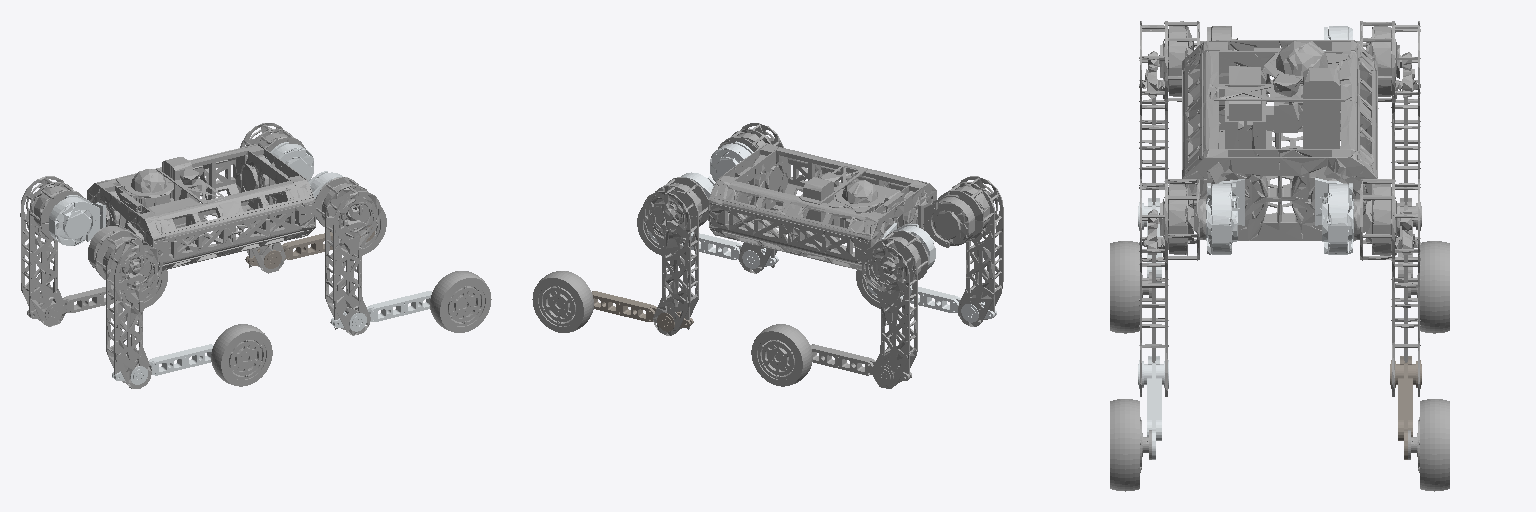
URDF robot description (dog):
<?xml version="1.0" encoding="utf-8"?>
<!-- This URDF was automatically created by SolidWorks to URDF Exporter! Originally created by Stephen Brawner (brawner@gmail.com) 
     Commit Version: 1.6.0-4-g7f85cfe  Build Version: 1.6.7995.38578
     For more information, please see http://wiki.ros.org/sw_urdf_exporter -->
<robot
  name="dog">
  <link
    name="base_link">
    <inertial>
      <origin
        xyz="-0.0160854613189334 0.00474330207191995 0.0648795496388768"
        rpy="0 0 0" />
      <mass
        value="5.21190024516352" />
      <inertia
        ixx="0.00800659043383066"
        ixy="-7.72462268642862E-07"
        ixz="2.58952656180226E-06"
        iyy="0.010335350434977"
        iyz="-5.60612776065699E-08"
        izz="0.0100871236101178" />
    </inertial>
    <visual>
      <origin
        xyz="0 0 0"
        rpy="0 0 0" />
      <geometry>
        <mesh
          filename="package://dog/meshes/base_link.stl" />
      </geometry>
      <material
        name="">
        <color
          rgba="0.698039215686274 0.698039215686274 0.698039215686274 1" />
      </material>
    </visual>
    <collision>
      <origin
        xyz="0 0 0"
        rpy="0 0 0" />
      <geometry>
        <mesh
          filename="package://dog/meshes/base_link.stl" />
      </geometry>
    </collision>
  </link>
  <link
    name="FL_hip">
    <inertial>
      <origin
        xyz="0.00926961232108042 -0.000389119045094199 0.0462296027107006"
        rpy="0 0 0" />
      <mass
        value="0.742829095910112" />
      <inertia
        ixx="0.00077387887909341"
        ixy="-8.17686305921354E-08"
        ixz="-9.36979153627493E-08"
        iyy="0.000386655335773604"
        iyz="-7.10269912308606E-06"
        izz="0.000448506001796733" />
    </inertial>
    <visual>
      <origin
        xyz="0 0 0"
        rpy="0 0 0" />
      <geometry>
        <mesh
          filename="package://dog/meshes/left_front1.stl" />
      </geometry>
      <material
        name="">
        <color
          rgba="0.898039215686275 0.917647058823529 0.929411764705882 1" />
      </material>
    </visual>
    <collision>
      <origin
        xyz="0 0 0"
        rpy="0 0 0" />
      <geometry>
        <mesh
          filename="package://dog/meshes/left_front1.stl" />
      </geometry>
    </collision>
  </link>
  <joint
    name="FL_hip_joint"
    type="revolute">
    <origin
      xyz="0.198599827436973 0.0699998874434311 0.0620002761469703"
      rpy="1.5707963267949 0 1.5707963267949" />
    <parent
      link="base_link" />
    <child
      link="FL_hip" />
    <axis
      xyz="0 0 1" />
    <limit
      lower="-3.1415926"
      upper="3.1415926"
      effort="23"
      velocity="30" />
  </joint>
  <link
    name="FL_thigh">
    <inertial>
      <origin
        xyz="0.0269483380494597 0.00456852861881914 0.0409809021189114"
        rpy="0 0 0" />
      <mass
        value="1.18835534771936" />
      <inertia
        ixx="0.000583045773886506"
        ixy="7.12860506981364E-05"
        ixz="3.29557666862337E-07"
        iyy="0.00200766608657333"
        iyz="3.81735182620513E-07"
        izz="0.00251526896569887" />
    </inertial>
    <visual>
      <origin
        xyz="0 0 0"
        rpy="0 0 0" />
      <geometry>
        <mesh
          filename="package://dog/meshes/left_front2.stl" />
      </geometry>
      <material
        name="">
        <color
          rgba="0.698039215686274 0.698039215686274 0.698039215686274 1" />
      </material>
    </visual>
    <collision>
      <origin
        xyz="0 0 0"
        rpy="0 0 0" />
      <geometry>
        <mesh
          filename="package://dog/meshes/left_front2.stl" />
      </geometry>
    </collision>
  </link>
  <joint
    name="FL_thigh_joint"
    type="revolute">
    <origin
      xyz="0.0358 0 0.053"
      rpy="-1.5708 0 -1.5708" />
    <parent
      link="FL_hip" />
    <child
      link="FL_thigh" />
    <axis
      xyz="0 0 1" />
    <limit
      lower="-3.1415926"
      upper="3.1415926"
      effort="23"
      velocity="30" />
  </joint>
  <link
    name="FL_calf">
    <inertial>
      <origin
        xyz="0.0501224619097587 -3.78986571292206E-10 -0.0161327781293289"
        rpy="0 0 0" />
      <mass
        value="0.239198906199937" />
      <inertia
        ixx="2.34277225944229E-05"
        ixy="-3.71169837486834E-18"
        ixz="8.1760295512886E-09"
        iyy="0.000501272731167536"
        iyz="-4.30463591561226E-19"
        izz="0.000522923662478962" />
    </inertial>
    <visual>
      <origin
        xyz="0 0 0"
        rpy="0 0 0" />
      <geometry>
        <mesh
          filename="package://dog/meshes/left_front3.stl" />
      </geometry>
      <material
        name="">
        <color
          rgba="0.647058823529412 0.619607843137255 0.588235294117647 1" />
      </material>
    </visual>
    <collision>
      <origin
        xyz="0 0 0"
        rpy="0 0 0" />
      <geometry>
        <mesh
          filename="package://dog/meshes/left_front3.stl" />
      </geometry>
    </collision>
  </link>
  <joint
    name="FL_calf_joint"
    type="revolute">
    <origin
      xyz="0.23 0 0.07975"
      rpy="0 0 -1.5704" />
    <parent
      link="FL_thigh" />
    <child
      link="FL_calf" />
    <axis
      xyz="0 0 1" />
    <limit
      lower="-3.1415926"
      upper="3.1415926"
      effort="40"
      velocity="20" />
  </joint>
  <link
    name="FL_foot">
    <inertial>
      <origin
        xyz="1.91410822103499E-06 1.10265890485017E-06 0.0324457169267489"
        rpy="0 0 0" />
      <mass
        value="0.759852059316646" />
      <inertia
        ixx="0.000798795435435591"
        ixy="3.93130204930613E-10"
        ixz="-3.48956735597571E-08"
        iyy="0.000798795890854481"
        iyz="-2.01759884173251E-08"
        izz="0.00145510261223115" />
    </inertial>
    <visual>
      <origin
        xyz="0 0 0"
        rpy="0 0 0" />
      <geometry>
        <mesh
          filename="package://dog/meshes/left_front4.stl" />
      </geometry>
      <material
        name="">
        <color
          rgba="0.698039215686274 0.698039215686274 0.698039215686274 1" />
      </material>
    </visual>
    <collision>
      <origin
        xyz="0 0 0"
        rpy="0 0 0" />
      <geometry>
        <mesh
          filename="package://dog/meshes/left_front4.stl" />
      </geometry>
    </collision>
  </link>
  <joint
    name="FL_foot_joint"
    type="continuous">
    <origin
      xyz="0.225 0 -0.01125"
      rpy="0 0 0" />
    <parent
      link="FL_calf" />
    <child
      link="FL_foot" />
    <axis
      xyz="0 0 1" />
  </joint>
  <link
    name="FR_hip">
    <inertial>
      <origin
        xyz="0.00926961232091278 -0.000280544753197602 0.0463949689049729"
        rpy="0 0 0" />
      <mass
        value="0.742829095911341" />
      <inertia
        ixx="0.000773878879095378"
        ixy="8.19615563322523E-08"
        ixz="1.04684273899424E-07"
        iyy="0.00038665535080213"
        iyz="-7.10277806748535E-06"
        izz="0.000448505986770543" />
    </inertial>
    <visual>
      <origin
        xyz="0 0 0"
        rpy="0 0 0" />
      <geometry>
        <mesh
          filename="package://dog/meshes/right_front1.stl" />
      </geometry>
      <material
        name="">
        <color
          rgba="0.898039215686275 0.917647058823529 0.929411764705882 1" />
      </material>
    </visual>
    <collision>
      <origin
        xyz="0 0 0"
        rpy="0 0 0" />
      <geometry>
        <mesh
          filename="package://dog/meshes/right_front1.stl" />
      </geometry>
    </collision>
  </link>
  <joint
    name="FR_hip_joint"
    type="revolute">
    <origin
      xyz="0.198600112556418 -0.0700000000000034 0.0620005478797402"
      rpy="-1.5707963267949 0 -1.5707963267949" />
    <parent
      link="base_link" />
    <child
      link="FR_hip" />
    <axis
      xyz="0 0 1" />
    <limit
      lower="-3.1415926"
      upper="3.1415926"
      effort="23"
      velocity="30" />
  </joint>
  <link
    name="FR_thigh">
    <inertial>
      <origin
        xyz="0.0266173761273097 -0.00435327817916716 0.0410938485465991"
        rpy="0 0 0" />
      <mass
        value="1.19692172233053" />
      <inertia
        ixx="0.00058395564907821"
        ixy="-7.36362712368308E-05"
        ixz="3.29585596835653E-07"
        iyy="0.00200857596621308"
        iyz="-1.83433927700453E-07"
        izz="0.00251528449410029" />
    </inertial>
    <visual>
      <origin
        xyz="0 0 0"
        rpy="0 0 0" />
      <geometry>
        <mesh
          filename="package://dog/meshes/right_front2.stl" />
      </geometry>
      <material
        name="">
        <color
          rgba="0.698039215686274 0.698039215686274 0.698039215686274 1" />
      </material>
    </visual>
    <collision>
      <origin
        xyz="0 0 0"
        rpy="0 0 0" />
      <geometry>
        <mesh
          filename="package://dog/meshes/right_front2.stl" />
      </geometry>
    </collision>
  </link>
  <joint
    name="FR_thigh_joint"
    type="revolute">
    <origin
      xyz="0.0357999999999982 0 0.052999887443579"
      rpy="1.57079632679493 0 1.5707963267949" />
    <parent
      link="FR_hip" />
    <child
      link="FR_thigh" />
    <axis
      xyz="0 0 1" />
    <limit
      lower="-3.1415926"
      upper="3.1415926"
      effort="23"
      velocity="30" />
  </joint>
  <link
    name="FR_calf">
    <inertial>
      <origin
        xyz="0.0506122896882917 -4.06619182768964E-15 -0.0159312946682291"
        rpy="0 0 0" />
      <mass
        value="0.236883938830138" />
      <inertia
        ixx="2.33006376836585E-05"
        ixy="-5.82758667710959E-19"
        ixz="8.17602954316989E-09"
        iyy="0.000501145646256772"
        iyz="-1.16318576940849E-19"
        izz="0.000522671035969014" />
    </inertial>
    <visual>
      <origin
        xyz="0 0 0"
        rpy="0 0 0" />
      <geometry>
        <mesh
          filename="package://dog/meshes/right_front3.stl" />
      </geometry>
      <material
        name="">
        <color
          rgba="0.898039215686275 0.917647058823529 0.929411764705882 1" />
      </material>
    </visual>
    <collision>
      <origin
        xyz="0 0 0"
        rpy="0 0 0" />
      <geometry>
        <mesh
          filename="package://dog/meshes/right_front3.stl" />
      </geometry>
    </collision>
  </link>
  <joint
    name="FR_calf_joint"
    type="revolute">
    <origin
      xyz="0.229999999999999 0 0.079749999999998"
      rpy="0 0 1.5704" />
    <parent
      link="FR_thigh" />
    <child
      link="FR_calf" />
    <axis
      xyz="0 0 1" />
    <limit
      lower="-3.1415926"
      upper="3.1415926"
      effort="40"
      velocity="20" />
  </joint>
  <link
    name="FR_foot">
    <inertial>
      <origin
        xyz="1.9133E-06 -1.1078E-06 0.032446"
        rpy="0 0 0" />
      <mass
        value="0.75985" />
      <inertia
        ixx="0.0007988"
        ixy="-3.9377E-10"
        ixz="-3.4921E-08"
        iyy="0.0007988"
        iyz="2.0133E-08"
        izz="0.0014551" />
    </inertial>
    <visual>
      <origin
        xyz="0 0 0"
        rpy="0 0 0" />
      <geometry>
        <mesh
          filename="package://dog/meshes/right_front4.stl" />
      </geometry>
      <material
        name="">
        <color
          rgba="0.69804 0.69804 0.69804 1" />
      </material>
    </visual>
    <collision>
      <origin
        xyz="0 0 0"
        rpy="0 0 0" />
      <geometry>
        <mesh
          filename="package://dog/meshes/right_front4.stl" />
      </geometry>
    </collision>
  </link>
  <joint
    name="FR_foot_joint"
    type="continuous">
    <origin
      xyz="0.225 0 -0.01125"
      rpy="0 0 0" />
    <parent
      link="FR_calf" />
    <child
      link="FR_foot" />
    <axis
      xyz="0 0 1" />
  </joint>
  <link
    name="RL_hip">
    <inertial>
      <origin
        xyz="0.00926961232093979 -0.000281092632910124 0.0463950814614452"
        rpy="0 0 0" />
      <mass
        value="0.742829095909968" />
      <inertia
        ixx="0.000773878879093355"
        ixy="8.19615561635216E-08"
        ixz="1.04684273267883E-07"
        iyy="0.000386655350800073"
        iyz="-7.10277806803709E-06"
        izz="0.000448505986770209" />
    </inertial>
    <visual>
      <origin
        xyz="0 0 0"
        rpy="0 0 0" />
      <geometry>
        <mesh
          filename="package://dog/meshes/left_behind1.stl" />
      </geometry>
      <material
        name="">
        <color
          rgba="0.898039215686275 0.917647058823529 0.929411764705882 1" />
      </material>
    </visual>
    <collision>
      <origin
        xyz="0 0 0"
        rpy="0 0 0" />
      <geometry>
        <mesh
          filename="package://dog/meshes/left_behind1.stl" />
      </geometry>
    </collision>
  </link>
  <joint
    name="RL_hip_joint"
    type="revolute">
    <origin
      xyz="-0.198600000000003 0.0699999999999925 0.0620000000000055"
      rpy="-1.5707963267949 0 1.57079632679489" />
    <parent
      link="base_link" />
    <child
      link="RL_hip" />
    <axis
      xyz="0 0 1" />
    <limit
      lower="-3.1415926"
      upper="3.1415926"
      effort="23"
      velocity="30" />
  </joint>
  <link
    name="RL_thigh">
    <inertial>
      <origin
        xyz="0.0266460897614779 0.0045878514565782 0.0409809072800415"
        rpy="0 0 0" />
      <mass
        value="1.18835557567372" />
      <inertia
        ixx="0.0005838054072851"
        ixy="6.97870930291067E-05"
        ixz="2.64421775316948E-07"
        iyy="0.00200690652735499"
        iyz="4.03850424805244E-07"
        izz="0.00251526903645731" />
    </inertial>
    <visual>
      <origin
        xyz="0 0 0"
        rpy="0 0 0" />
      <geometry>
        <mesh
          filename="package://dog/meshes/left_behind2.stl" />
      </geometry>
      <material
        name="">
        <color
          rgba="0.698039215686274 0.698039215686274 0.698039215686274 1" />
      </material>
    </visual>
    <collision>
      <origin
        xyz="0 0 0"
        rpy="0 0 0" />
      <geometry>
        <mesh
          filename="package://dog/meshes/left_behind2.stl" />
      </geometry>
    </collision>
  </link>
  <joint
    name="RL_thigh_joint"
    type="revolute">
    <origin
      xyz="0.0358000000000075 0 0.0530000000000009"
      rpy="1.57079632679488 0 1.5707963267949" />
    <parent
      link="RL_hip" />
    <child
      link="RL_thigh" />
    <axis
      xyz="0 0 1" />
    <limit
      lower="-3.1415926"
      upper="3.1415926"
      effort="23"
      velocity="30" />
  </joint>
  <link
    name="RL_calf">
    <inertial>
      <origin
        xyz="0.0501224636869421 -2.90239110523061E-10 -0.016132778126888"
        rpy="0 0 0" />
      <mass
        value="0.239198906199937" />
      <inertia
        ixx="2.34277225944228E-05"
        ixy="6.77984076757725E-14"
        ixz="8.17602954356193E-09"
        iyy="0.000501272731167538"
        iyz="1.00518052618339E-18"
        izz="0.000522923662478964" />
    </inertial>
    <visual>
      <origin
        xyz="0 0 0"
        rpy="0 0 0" />
      <geometry>
        <mesh
          filename="package://dog/meshes/left_behind3.stl" />
      </geometry>
      <material
        name="">
        <color
          rgba="0.698039215686274 0.698039215686274 0.698039215686274 1" />
      </material>
    </visual>
    <collision>
      <origin
        xyz="0 0 0"
        rpy="0 0 0" />
      <geometry>
        <mesh
          filename="package://dog/meshes/left_behind3.stl" />
      </geometry>
    </collision>
  </link>
  <joint
    name="RL_calf_joint"
    type="revolute">
    <origin
      xyz="0.230000000092392 0 0.0797499999975051"
      rpy="0 0 -1.5704" />
    <parent
      link="RL_thigh" />
    <child
      link="RL_calf" />
    <axis
      xyz="0 0 1" />
    <limit
      lower="-3.1415926"
      upper="3.1415926"
      effort="40"
      velocity="20" />
  </joint>
  <link
    name="RL_foot">
    <inertial>
      <origin
        xyz="1.91586785985853E-06 1.10282690107821E-06 0.0324457169326998"
        rpy="0 0 0" />
      <mass
        value="0.759852059316647" />
      <inertia
        ixx="0.000798795435435591"
        ixy="3.93130205228768E-10"
        ixz="-3.48956735572309E-08"
        iyy="0.00079879589085448"
        iyz="-2.0175988422078E-08"
        izz="0.00145510261223115" />
    </inertial>
    <visual>
      <origin
        xyz="0 0 0"
        rpy="0 0 0" />
      <geometry>
        <mesh
          filename="package://dog/meshes/left_behind4.stl" />
      </geometry>
      <material
        name="">
        <color
          rgba="0.698039215686274 0.698039215686274 0.698039215686274 1" />
      </material>
    </visual>
    <collision>
      <origin
        xyz="0 0 0"
        rpy="0 0 0" />
      <geometry>
        <mesh
          filename="package://dog/meshes/left_behind4.stl" />
      </geometry>
    </collision>
  </link>
  <joint
    name="RL_foot_joint"
    type="continuous">
    <origin
      xyz="0.225 0 -0.01125"
      rpy="0 0 0" />
    <parent
      link="RL_calf" />
    <child
      link="RL_foot" />
    <axis
      xyz="0 0 1" />
  </joint>
  <link
    name="RR_hip">
    <inertial>
      <origin
        xyz="0.00926961232092671 -0.000389344571304101 0.0462293354679432"
        rpy="0 0 0" />
      <mass
        value="0.742829095909967" />
      <inertia
        ixx="0.000773878879093353"
        ixy="-8.17692648189203E-08"
        ixz="-9.36973919183274E-08"
        iyy="0.000386655350800074"
        iyz="-7.1027780680366E-06"
        izz="0.000448505986770206" />
    </inertial>
    <visual>
      <origin
        xyz="0 0 0"
        rpy="0 0 0" />
      <geometry>
        <mesh
          filename="package://dog/meshes/right_behind1.stl" />
      </geometry>
      <material
        name="">
        <color
          rgba="0.698039215686274 0.698039215686274 0.698039215686274 1" />
      </material>
    </visual>
    <collision>
      <origin
        xyz="0 0 0"
        rpy="0 0 0" />
      <geometry>
        <mesh
          filename="package://dog/meshes/right_behind1.stl" />
      </geometry>
    </collision>
  </link>
  <joint
    name="RR_hip_joint"
    type="revolute">
    <origin
      xyz="-0.1986 -0.0700000000000039 0.0620000000000056"
      rpy="1.5707963267949 0 -1.5707963267949" />
    <parent
      link="base_link" />
    <child
      link="RR_hip" />
    <axis
      xyz="0 0 1" />
    <limit
      lower="-3.1415926"
      upper="3.1415926"
      effort="23"
      velocity="30" />
  </joint>
  <link
    name="RR_thigh">
    <inertial>
      <origin
        xyz="0.0263171646441857 -0.00437234865496344 0.0410938532818202"
        rpy="0 0 0" />
      <mass
        value="1.19692196706229" />
      <inertia
        ixx="0.000584715287588839"
        ixy="-7.21373067013766E-05"
        ixz="2.64427815602242E-07"
        iyy="0.00200781640223207"
        iyz="-2.05563178656218E-07"
        izz="0.00251528456519763" />
    </inertial>
    <visual>
      <origin
        xyz="0 0 0"
        rpy="0 0 0" />
      <geometry>
        <mesh
          filename="package://dog/meshes/right_behind2.stl" />
      </geometry>
      <material
        name="">
        <color
          rgba="0.698039215686274 0.698039215686274 0.698039215686274 1" />
      </material>
    </visual>
    <collision>
      <origin
        xyz="0 0 0"
        rpy="0 0 0" />
      <geometry>
        <mesh
          filename="package://dog/meshes/right_behind2.stl" />
      </geometry>
    </collision>
  </link>
  <joint
    name="RR_thigh_joint"
    type="revolute">
    <origin
      xyz="0.0358 0 0.0530000000000005"
      rpy="-1.57079632679491 0 -1.5707963267949" />
    <parent
      link="RR_hip" />
    <child
      link="RR_thigh" />
    <axis
      xyz="0 0 1" />
    <limit
      lower="-3.1415926"
      upper="3.1415926"
      effort="23"
      velocity="30" />
  </joint>
  <link
    name="RR_calf">
    <inertial>
      <origin
        xyz="0.0501224638001539 6.52738973982991E-11 -0.0161327781293048"
        rpy="0 0 0" />
      <mass
        value="0.239198906199937" />
      <inertia
        ixx="2.34277225944228E-05"
        ixy="-6.1346581433459E-15"
        ixz="8.17602954328371E-09"
        iyy="0.000501272731167537"
        iyz="-2.31606320576775E-19"
        izz="0.000522923662478963" />
    </inertial>
    <visual>
      <origin
        xyz="0 0 0"
        rpy="0 0 0" />
      <geometry>
        <mesh
          filename="package://dog/meshes/right_behind3.stl" />
      </geometry>
      <material
        name="">
        <color
          rgba="0.898039215686275 0.917647058823529 0.929411764705882 1" />
      </material>
    </visual>
    <collision>
      <origin
        xyz="0 0 0"
        rpy="0 0 0" />
      <geometry>
        <mesh
          filename="package://dog/meshes/right_behind3.stl" />
      </geometry>
    </collision>
  </link>
  <joint
    name="RR_calf_joint"
    type="revolute">
    <origin
      xyz="0.230000000090279 0 0.0797499999999652"
      rpy="0 0 1.5704" />
    <parent
      link="RR_thigh" />
    <child
      link="RR_calf" />
    <axis
      xyz="0 0 1" />
    <limit
      lower="-3.1415926"
      upper="3.1415926"
      effort="40"
      velocity="20" />
  </joint>
  <link
    name="RR_foot">
    <inertial>
      <origin
        xyz="1.91327453910595E-06 -1.10784669238306E-06 0.0324457169226696"
        rpy="0 0 0" />
      <mass
        value="0.759852059316651" />
      <inertia
        ixx="0.000798795436539015"
        ixy="-3.93767266595969E-10"
        ixz="-3.49207552953313E-08"
        iyy="0.00079879588975106"
        iyz="2.01325455771421E-08"
        izz="0.00145510261223115" />
    </inertial>
    <visual>
      <origin
        xyz="0 0 0"
        rpy="0 0 0" />
      <geometry>
        <mesh
          filename="package://dog/meshes/right_behind4.stl" />
      </geometry>
      <material
        name="">
        <color
          rgba="0.698039215686274 0.698039215686274 0.698039215686274 1" />
      </material>
    </visual>
    <collision>
      <origin
        xyz="0 0 0"
        rpy="0 0 0" />
      <geometry>
        <mesh
          filename="package://dog/meshes/right_behind4.stl" />
      </geometry>
    </collision>
  </link>
  <joint
    name="RR_foot_joint"
    type="continuous">
    <origin
      xyz="0.225 0 -0.01125"
      rpy="0 0 0" />
    <parent
      link="RR_calf" />
    <child
      link="RR_foot" />
    <axis
      xyz="0 0 1" />
  </joint>
</robot>

--- What the picture shows (computed from the rendered views, not written in the file) ---
The picture shows the robot from 3 angles, left to right: view 1: azimuth 30°, elevation 25°; view 2: azimuth 150°, elevation 25°; view 3: azimuth 270°, elevation 25°; orthographic projection.
Robot: dog — 17 links, 16 joints (12 revolute, 4 continuous); root link base_link; default pose: all joints at 0.
Links seen in each view (by area): view 1: base_link, RR_thigh, FR_thigh, RL_thigh, FR_foot, RR_foot, RL_hip, FR_calf, RR_calf, FL_thigh, FL_calf, RL_calf (+2 smaller); view 2: base_link, RL_thigh, FL_thigh, RR_thigh, FL_foot, RL_foot, RR_hip, FL_calf, RL_calf, FR_thigh, FR_calf, RR_calf (+2 smaller); view 3: base_link, FL_thigh, FR_thigh, RR_thigh, RL_thigh, FL_foot, FR_foot, RR_foot, RL_foot, FL_hip, FR_hip, FL_calf (+1 smaller).
Link boxes in pixels (x1,y1,x2,y2): base_link: [87, 144, 315, 271]; RR_thigh: [95, 230, 162, 388]; FR_thigh: [315, 177, 381, 335]; RL_thigh: [20, 176, 85, 326]; FR_foot: [430, 271, 491, 332]; RR_foot: [211, 324, 272, 386]; RL_hip: [49, 195, 105, 245]; FR_calf: [330, 291, 431, 331]; RR_calf: [112, 344, 213, 384]; FL_thigh: [240, 123, 305, 273]; FL_calf: [245, 225, 374, 268]; RL_calf: [27, 281, 156, 322]; base_link: [708, 143, 936, 270]; RL_thigh: [862, 230, 928, 388]; FL_thigh: [642, 177, 708, 335]; RR_thigh: [938, 176, 1003, 326]; FL_foot: [532, 271, 593, 332]; RL_foot: [751, 324, 812, 386]; RR_hip: [918, 195, 974, 247]; FL_calf: [592, 291, 693, 331]; RL_calf: [810, 344, 911, 384]; FR_thigh: [718, 123, 783, 273]; FR_calf: [649, 223, 778, 268]; RR_calf: [868, 279, 996, 322]; base_link: [1182, 40, 1378, 240]; FL_thigh: [1354, 179, 1420, 396]; FR_thigh: [1139, 179, 1205, 396]; RR_thigh: [1139, 21, 1203, 204]; RL_thigh: [1356, 21, 1420, 204]; FL_foot: [1408, 399, 1449, 491]; FR_foot: [1110, 399, 1151, 491]; RR_foot: [1110, 241, 1151, 333]; RL_foot: [1408, 241, 1449, 333]; FL_hip: [1315, 178, 1353, 254]; FR_hip: [1206, 179, 1244, 254]; FL_calf: [1390, 356, 1421, 459].
Bounding box of the posed robot: 0.8461 × 0.4576 × 0.3905 m (x, y, z).
17 mesh visuals loaded from 17 distinct referenced files (17 binary STL).
